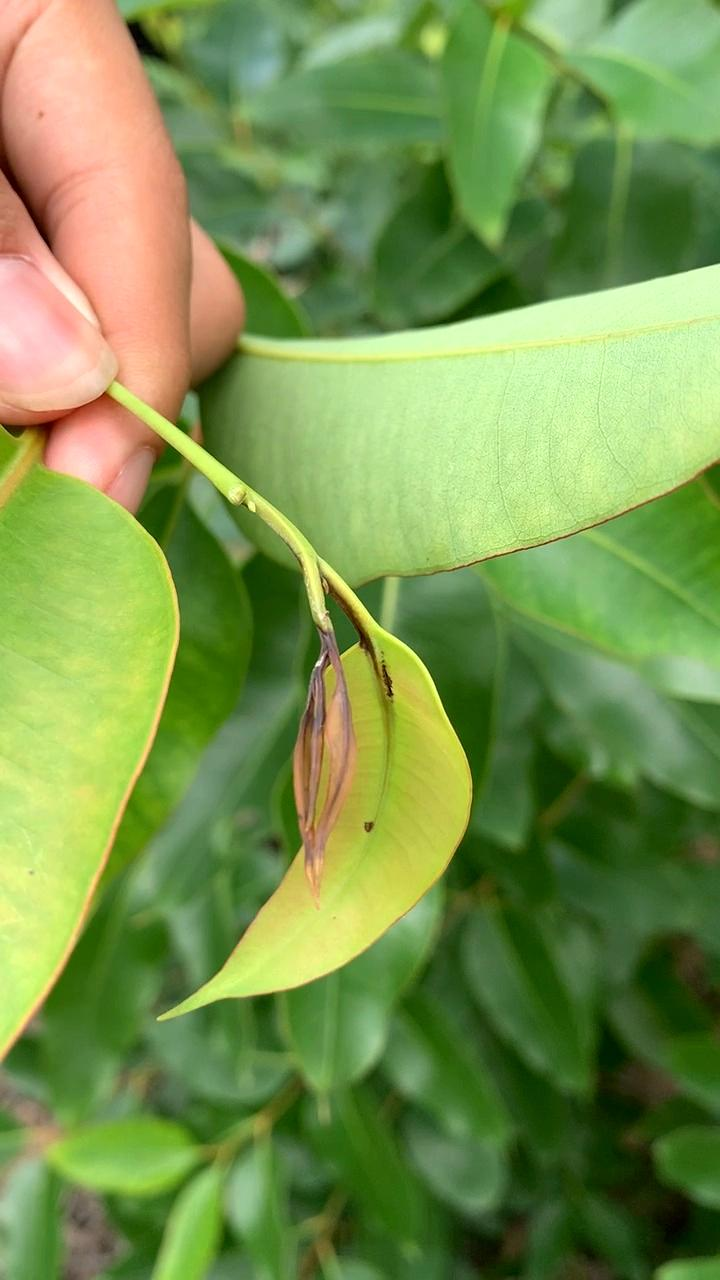Helopeltis-Withered Sprout: (260, 628, 377, 909)
